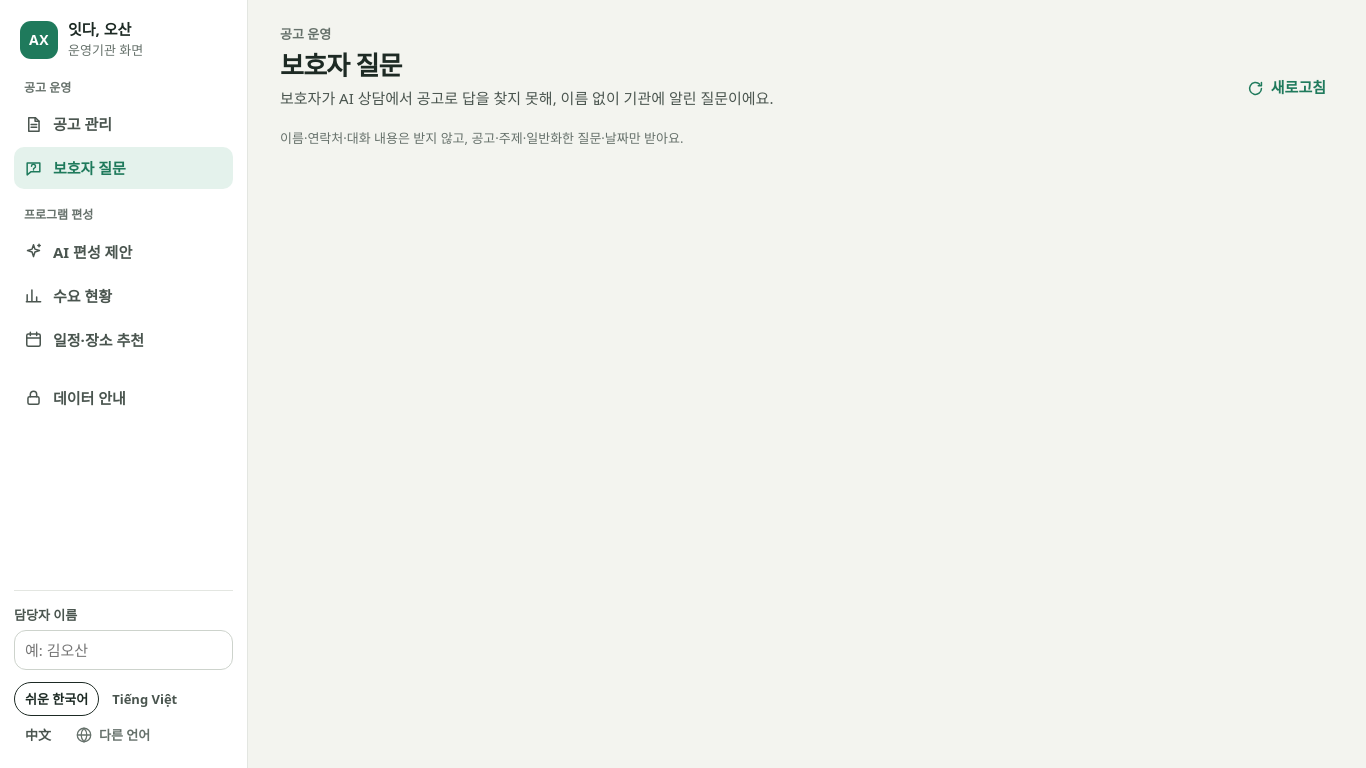
Test: 보호자 질문 화면 › 새로고침으로 취소된 요청이 늦게 끝나도 새 결과를 덮지 않는다
Click the button "새로고침" at (1286, 88), box [1238,66,1334,110]
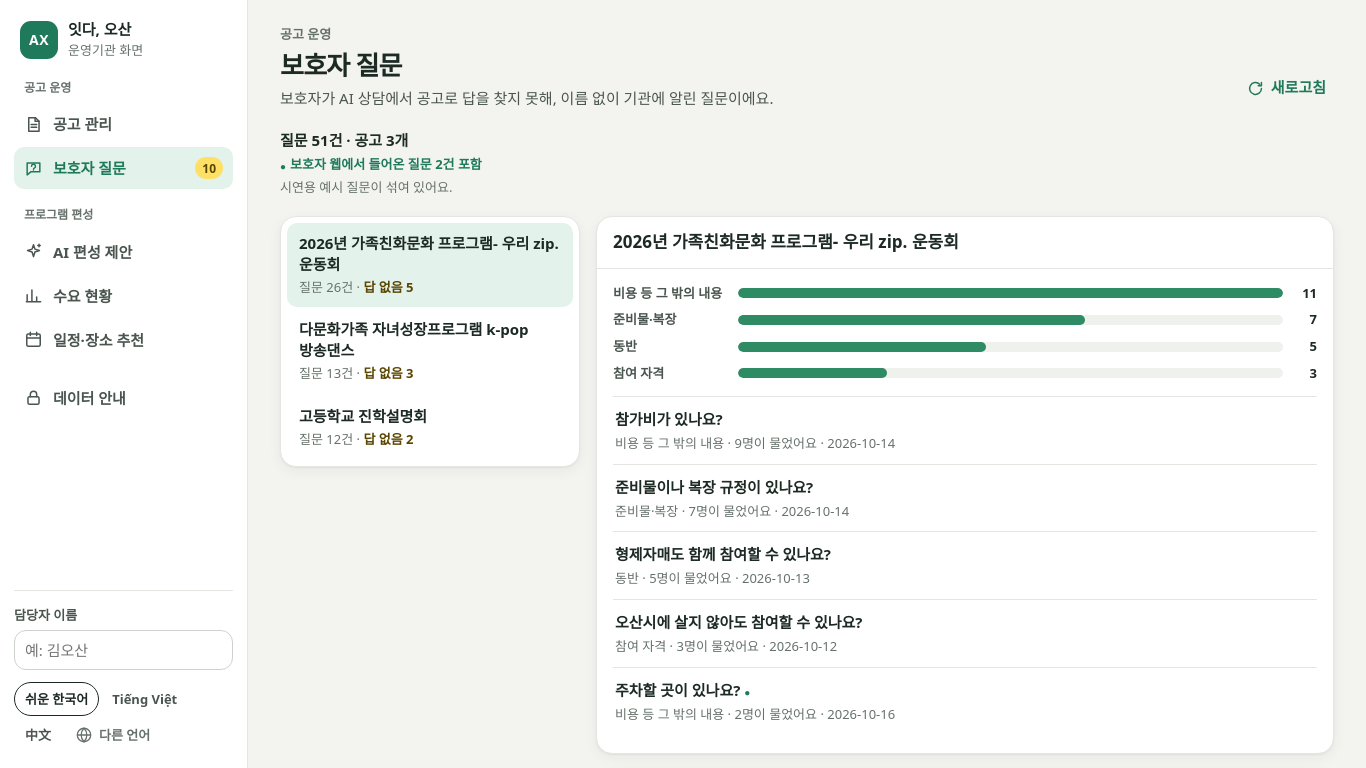
Check: the text "보호자 웹에서 들어온 질문 2건 포함" is shown, box [290,155,482,173]
